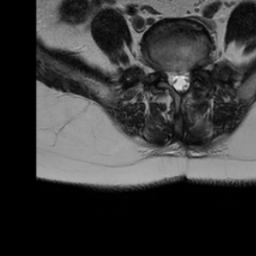CCS_normal: (176, 63, 184, 98)
LFS_severe_stenosis: (191, 62, 200, 86)
LLS_normal: (184, 65, 191, 94)
RFS_severe_stenosis: (156, 63, 166, 86)
RLS_normal: (166, 63, 175, 89)
